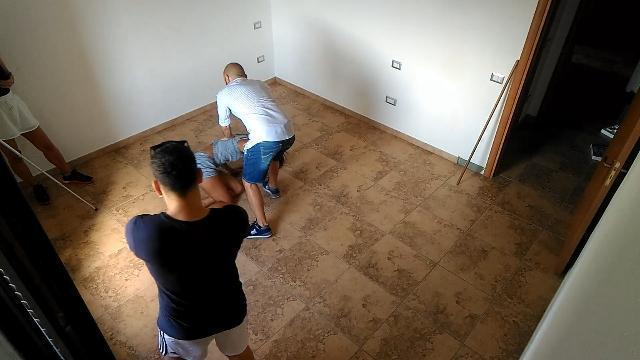non-violence: (120, 140, 262, 360), (1, 58, 98, 196)
violence: (193, 62, 293, 232)
